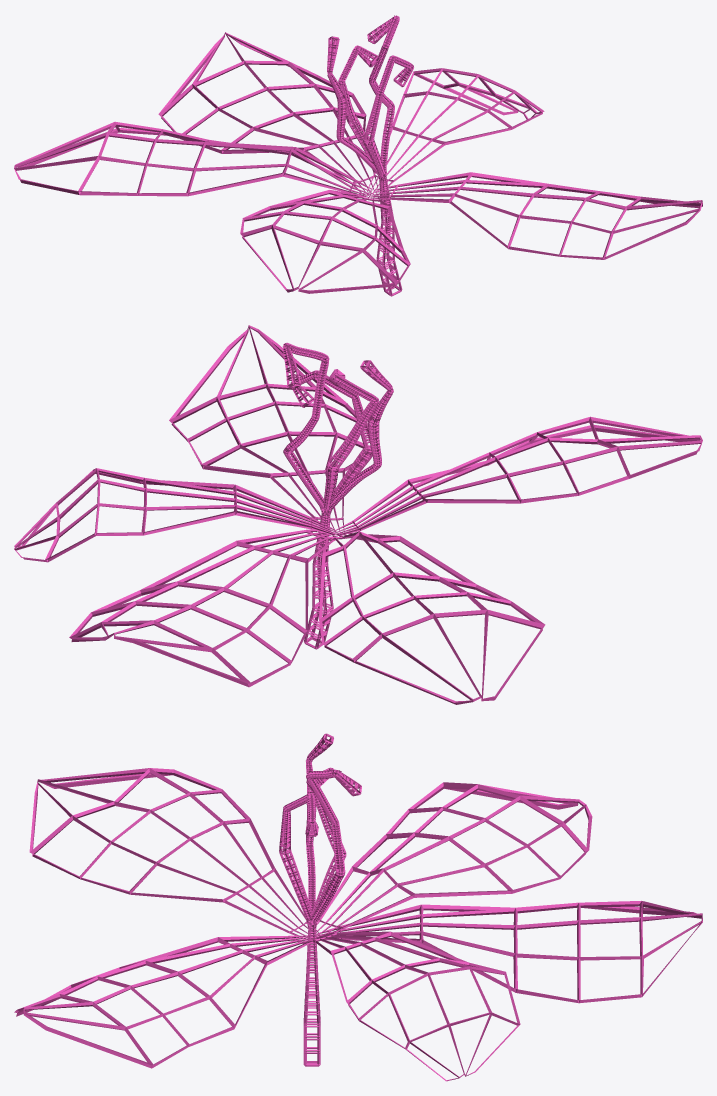
File: pata_de_vaca.glb
The picture shows the model from 3 angles, top to bottom: view 1: azimuth 30°, elevation 25°; view 2: azimuth 150°, elevation 25°; view 3: azimuth 270°, elevation 25°; orthographic projection. The views are drawn at different scales.
Parts seen in each view (by area): view 1: Cube; view 2: Cube; view 3: Cube.
Boxes of the visible parts, box(x1,y1,x2,y2) form: Cube: box(14, 15, 702, 296); Cube: box(14, 325, 702, 704); Cube: box(14, 733, 702, 1081).
Size of the model in its own units: 4.81 by 2.65 by 5.44.
